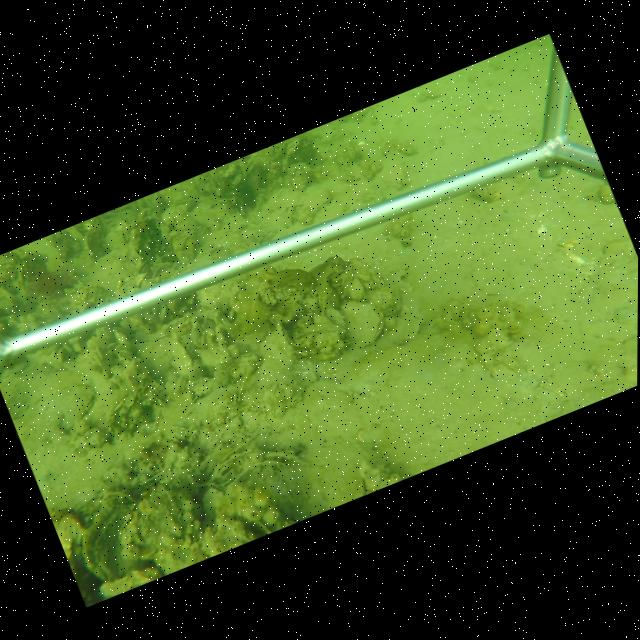Oyster-Closed: (338, 299, 388, 350), (0, 249, 36, 303), (270, 317, 301, 366), (346, 254, 386, 290), (170, 336, 197, 375)
Oyster-Indeterminate: (82, 226, 103, 263)
Oyster-Open: (81, 495, 125, 583)
